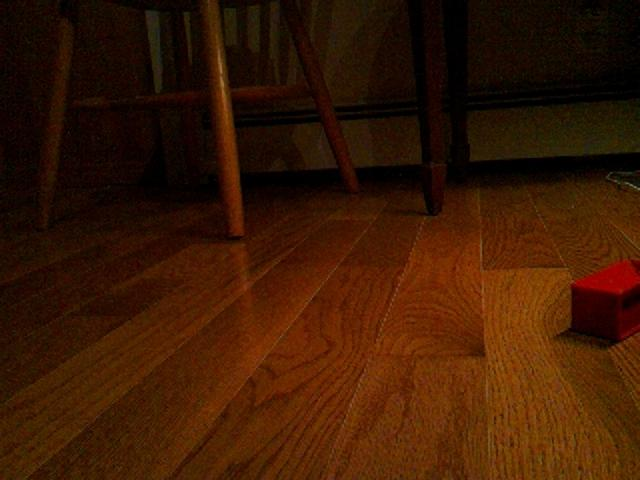red: (569, 257, 640, 343)
